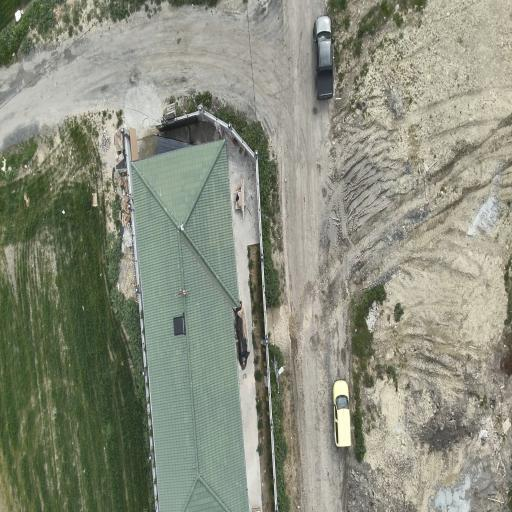car: (313, 15, 334, 100), (333, 380, 351, 446)
